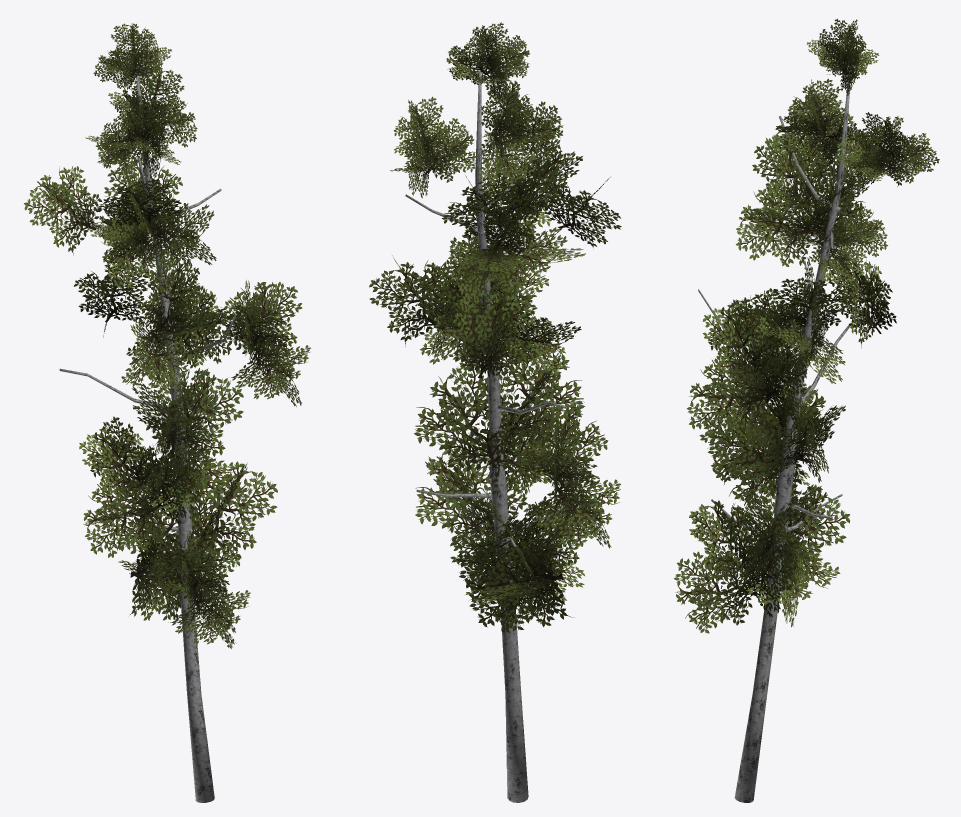
Rendered from tree_large_03.fbx.
3 renders of one model, left to right at view 1: azimuth 30°, elevation 25°; view 2: azimuth 150°, elevation 25°; view 3: azimuth 270°, elevation 25°, orthographic. The views are drawn at different scales.
Parts seen in each view (by area): view 1: tree_large_03; view 2: tree_large_03; view 3: tree_large_03.
Part boxes in pixels (x1=…): tree_large_03: x1=24, y1=23, x2=310, y2=802; tree_large_03: x1=369, y1=22, x2=621, y2=802; tree_large_03: x1=674, y1=18, x2=939, y2=802.
Bounding box in the file's own units: 12.64 × 11.28 × 34.67.
